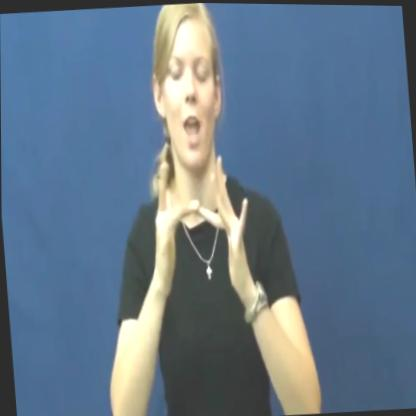Internet: (143, 139, 260, 324)
